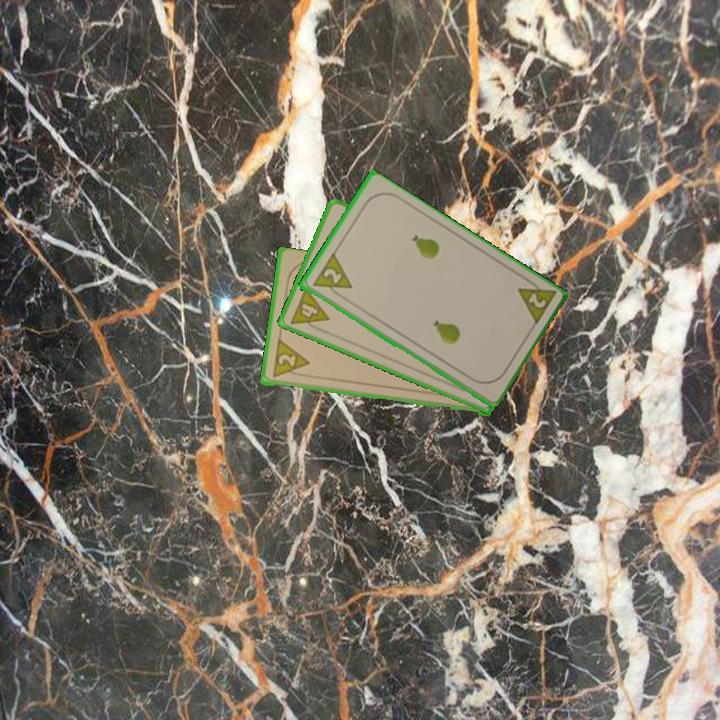2p: (513, 274, 558, 329), (308, 251, 355, 303), (268, 338, 312, 381)
4p: (286, 284, 332, 336)
